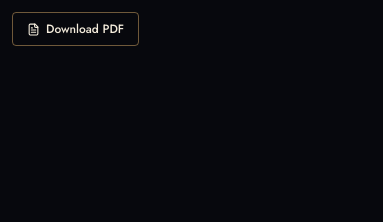
Test: Ticket C-UI · DownloadPdfButton › generic/network error → fallback honest message, button re-enables for retry
Click the button with test id "health-pdf-download-btn". click: [76, 29]
box: [12,12,139,46]
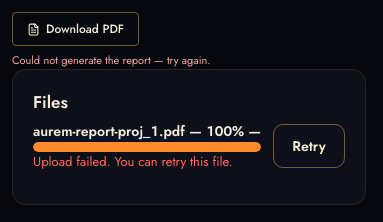
Expected: the text "Could not generate the report" is shown, [12,52,211,68]
